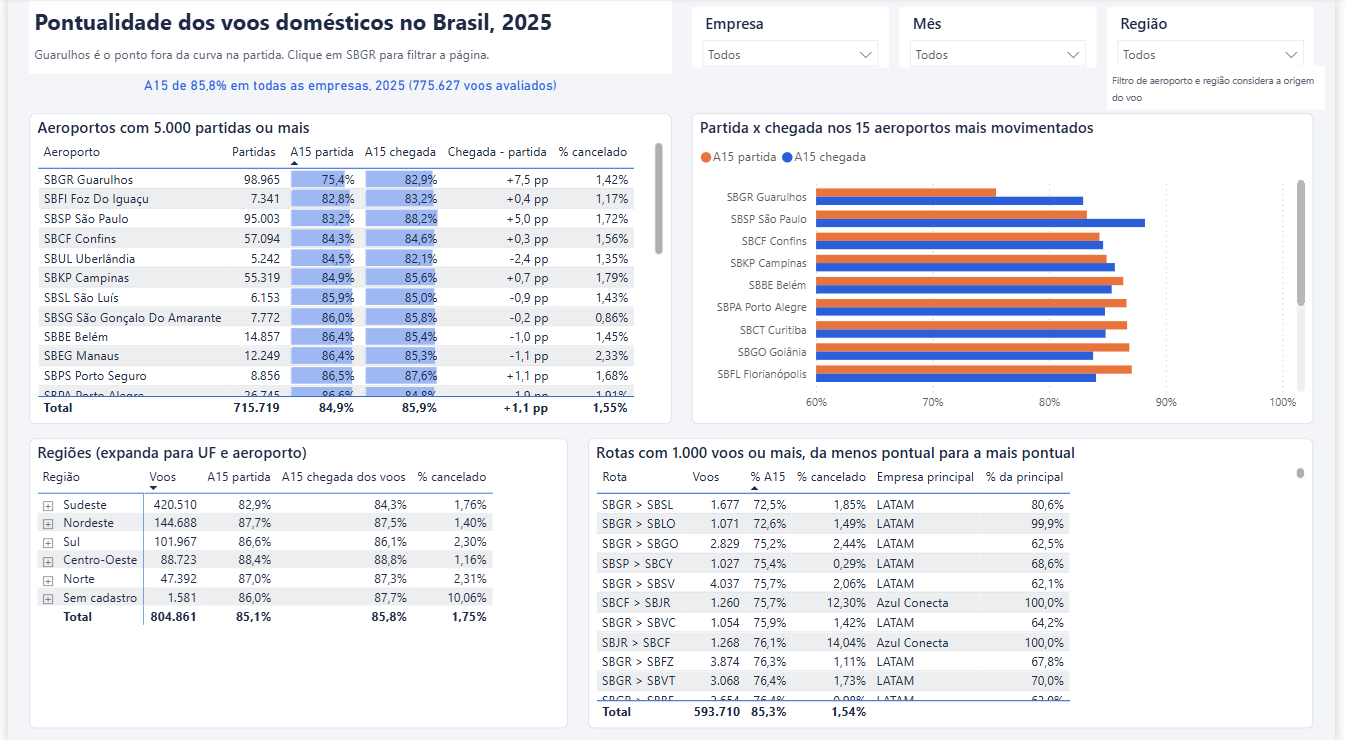

The page's visual inventory and layout, read from the dashboard file:
{"tool":"powerbi","page":{"name":"Aeroportos e rotas","canvas":[1280,720],"ordinal":2},"visuals":[{"type":"textbox","box":[20,4,620,46],"z":1000},{"type":"textbox","box":[20,42,620,32],"z":2000},{"type":"card","fields":{"Values":["_Medidas.Título Dinâmico"]},"box":[20,70,620,34],"z":3000},{"type":"slicer","fields":{"Values":["dim_empresa.nome"]},"box":[660,10,190,58],"z":4000},{"type":"slicer","fields":{"Values":["dim_data.nome_mes"]},"box":[860,10,190,58],"z":5000},{"type":"slicer","fields":{"Values":["dim_aeroporto.regiao"]},"box":[1060,10,200,58],"z":6000},{"type":"textbox","box":[1060,66,210,42],"z":7000},{"type":"tableEx","title":"Aeroportos com 5.000 partidas ou mais","fields":{"Values":["dim_aeroporto.aeroporto","_Medidas.Voos","_Medidas.% A15 Partida (origem)","_Medidas.% A15 Chegada (destino)","_Medidas.Diferença Chegada x Partida (pp)","_Medidas.% Cancelado"]},"box":[20,112,620,300],"z":8000},{"type":"clusteredBarChart","title":"Partida x chegada nos 15 aeroportos mais movimentados","fields":{"Category":["dim_aeroporto.aeroporto"],"Y":["_Medidas.% A15 Partida (origem)","_Medidas.% A15 Chegada (destino)"]},"box":[660,112,600,300],"z":9000},{"type":"pivotTable","title":"Regiões (expanda para UF e aeroporto)","fields":{"Rows":["dim_aeroporto.Localização.regiao","dim_aeroporto.Localização.uf","dim_aeroporto.Localização.aeroporto"],"Values":["_Medidas.Voos","_Medidas.% A15 Partida (origem)","_Medidas.% A15","_Medidas.% Cancelado"]},"box":[20,426,520,280],"z":10000},{"type":"tableEx","title":"Rotas com 1.000 voos ou mais, da menos pontual para a mais pontual","fields":{"Values":["fato_voo.rota","_Medidas.Voos","_Medidas.% A15","_Medidas.% Cancelado","_Medidas.Empresa Principal","_Medidas.% Voos da Empresa Principal"]},"box":[560,426,700,280],"z":11000}]}

Visuals, with their boxes in screenshot pixels (x1, y1, x2, y2), scaled from the page's 1280x720 canvas onto the 1345x740 screenshot:
textbox: 21/4/672/51
textbox: 21/43/672/76
card - _Medidas.Título Dinâmico: 21/72/672/107
slicer - dim_empresa.nome: 694/10/893/70
slicer - dim_data.nome_mes: 904/10/1103/70
slicer - dim_aeroporto.regiao: 1114/10/1324/70
textbox: 1114/68/1334/111
"Aeroportos com 5.000 partidas ou mais" tableEx: 21/115/672/423
"Partida x chegada nos 15 aeroportos mais movimentados" clusteredBarChart: 694/115/1324/423
"Regiões (expanda para UF e aeroporto)" pivotTable: 21/438/567/726
"Rotas com 1.000 voos ou mais, da menos pontual para a mais pontual" tableEx: 588/438/1324/726
